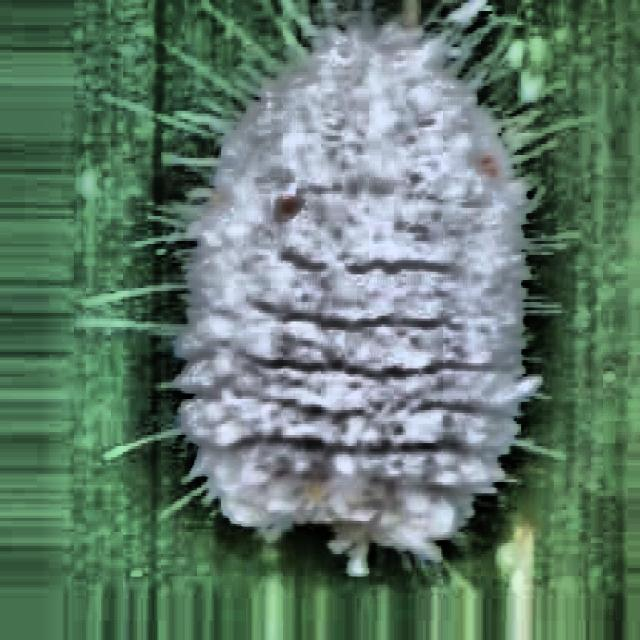Mealy-bug: (170, 7, 548, 639)
